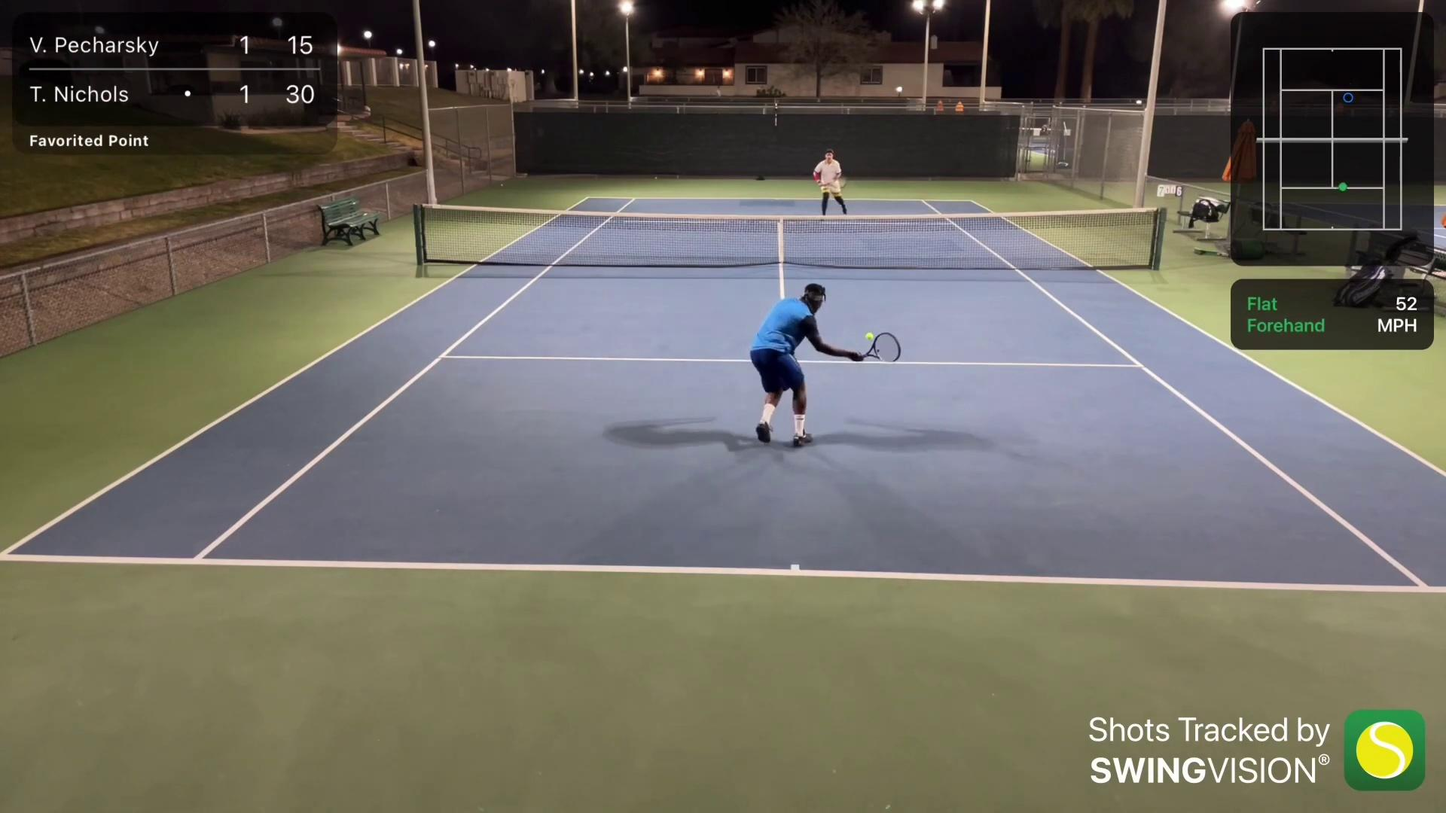ball: (864, 328, 875, 341)
